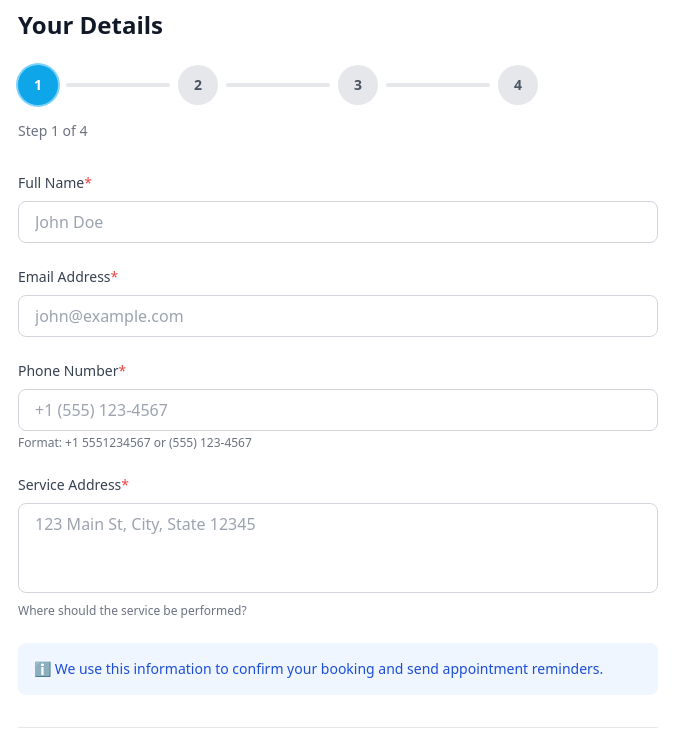
Test case: BookingForm - Comprehensive Test Suite › Form Validation › should validate phone format
This screenshot has width=677, height=745.
Step 1. Type "123" into the field labelled "Phone Number*" → (338, 410), box [18,389,658,431]
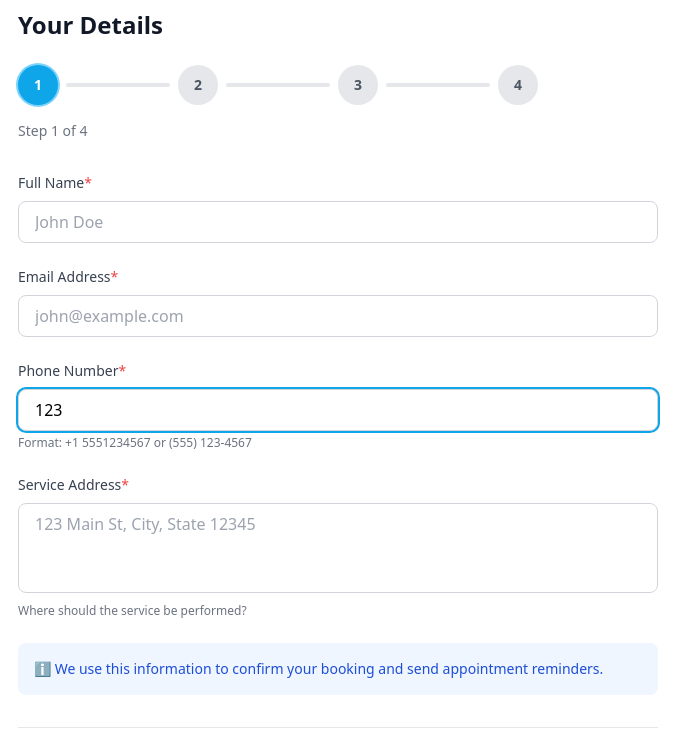
Step 2. Leave the field labelled "Phone Number*", box [18,389,658,431]
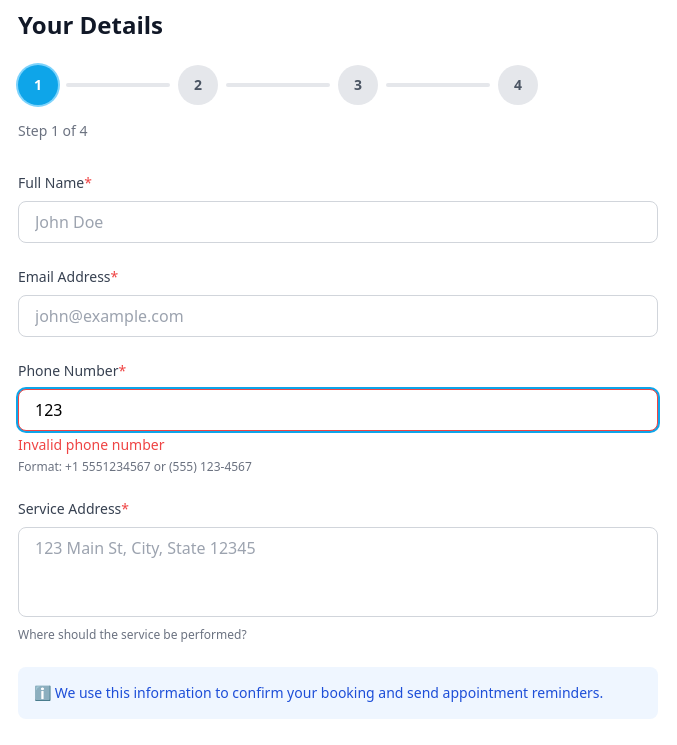
Expected: the text "Invalid phone number" is shown, [18,435,164,454]
